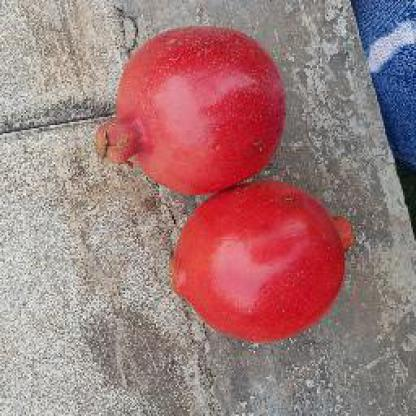pomegranate: (99, 28, 288, 192), (170, 182, 352, 343)
